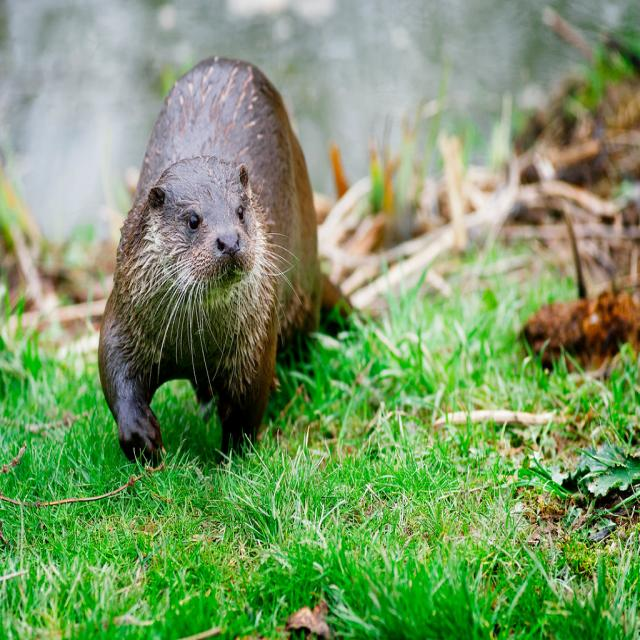otter: (100, 57, 315, 455)
